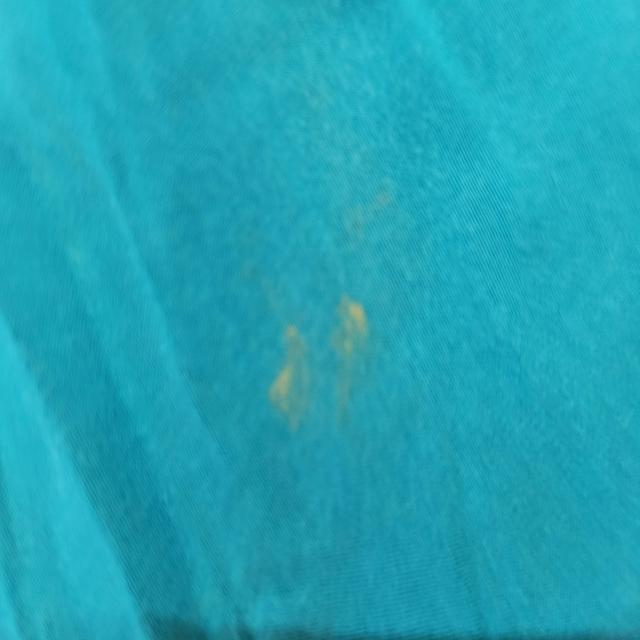stain: (241, 273, 399, 443)
